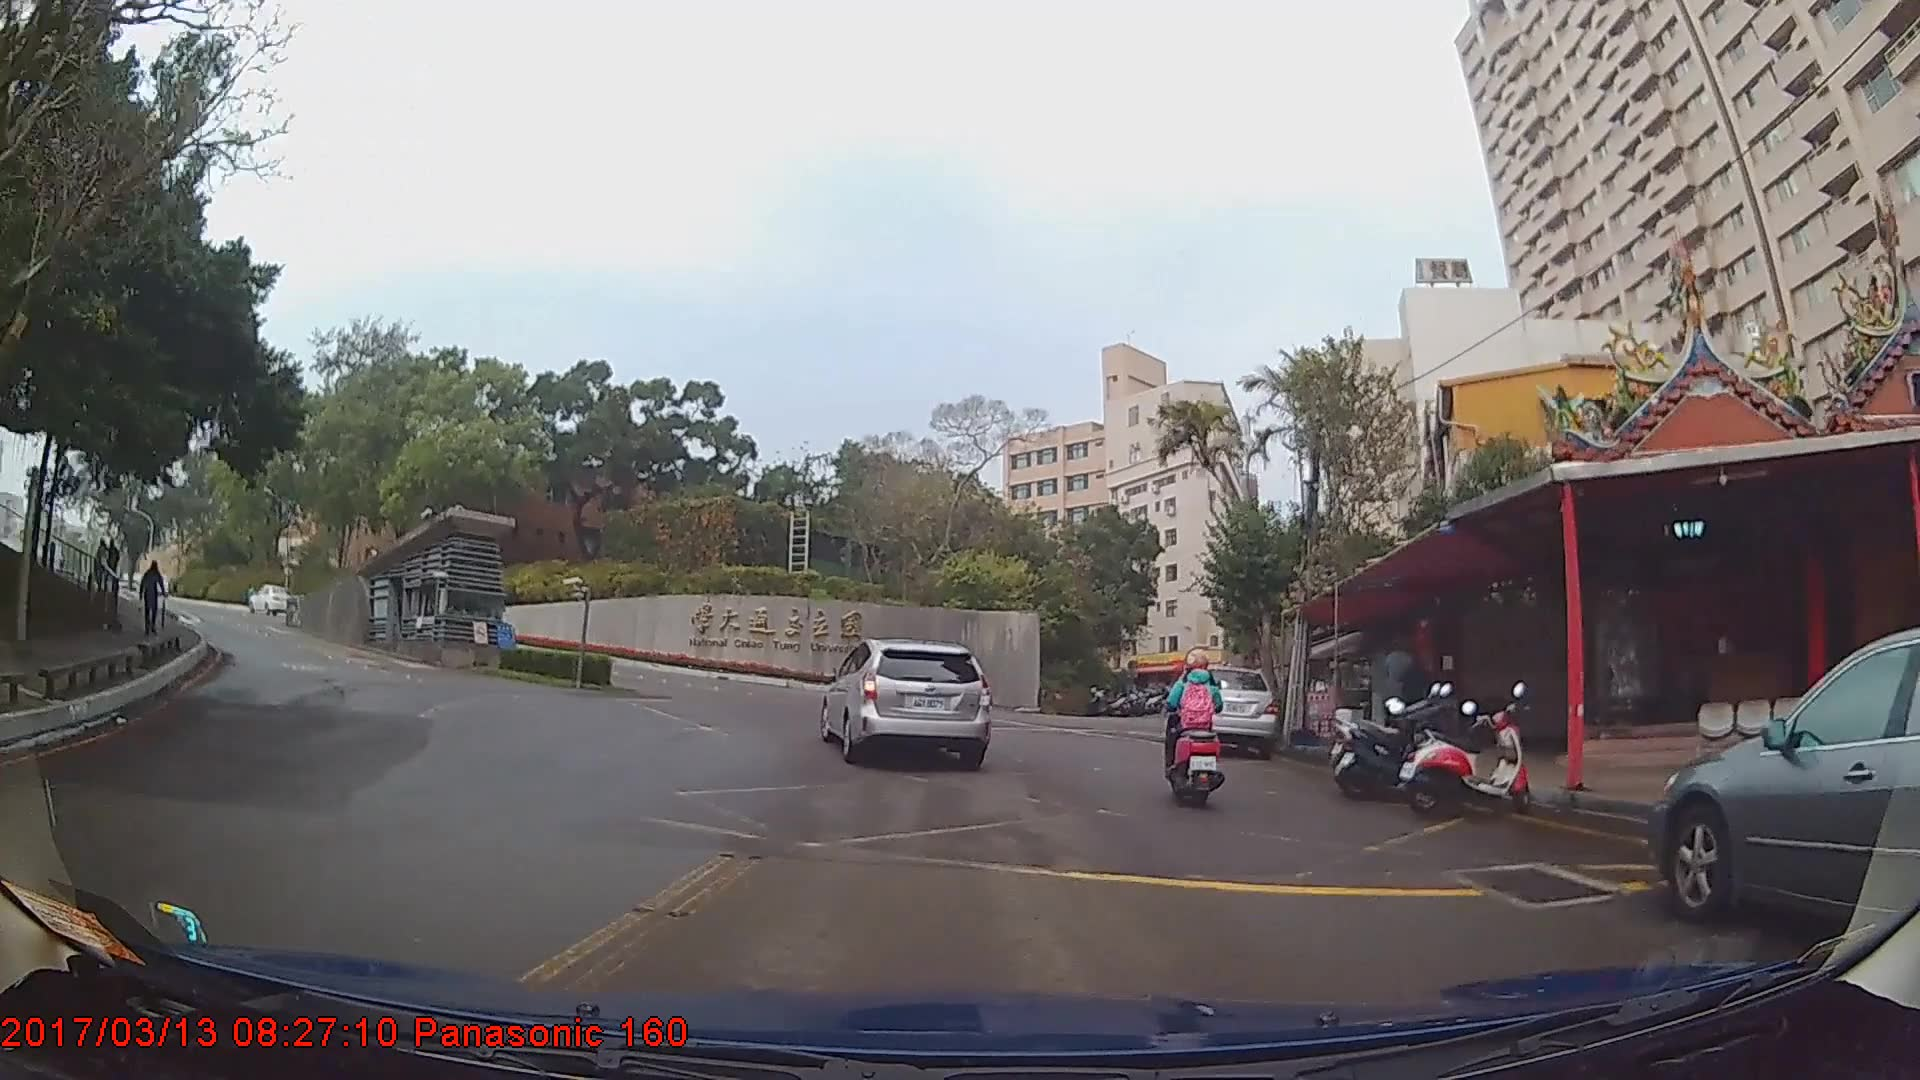pedestrian: (1395, 643, 1437, 749), (138, 563, 166, 638), (94, 538, 114, 599), (105, 540, 125, 596)
rider: (1157, 650, 1232, 812)
vehicle: (1657, 627, 1920, 936), (819, 638, 989, 770), (1164, 665, 1279, 756), (250, 587, 292, 617)
